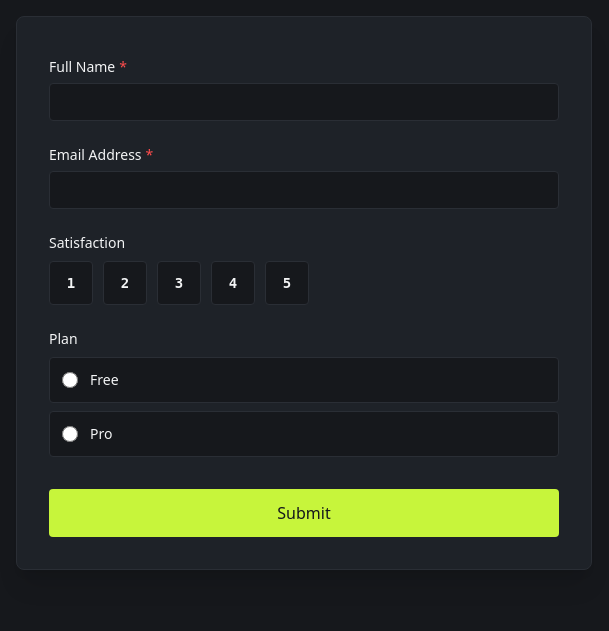
Scenario: FormRenderer › validates required fields before submitting
The image size is (609, 631).
What coordinates should you click on to do the following:
click the button "Submit"
I would click on:
 (304, 513)
Its box is [49,489,559,537].
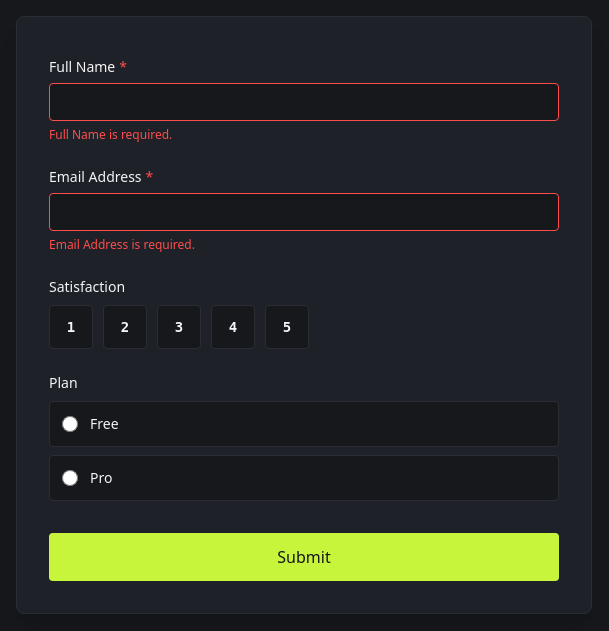
expect the text "Full Name is required." is shown: met, box [49,126,172,143]
